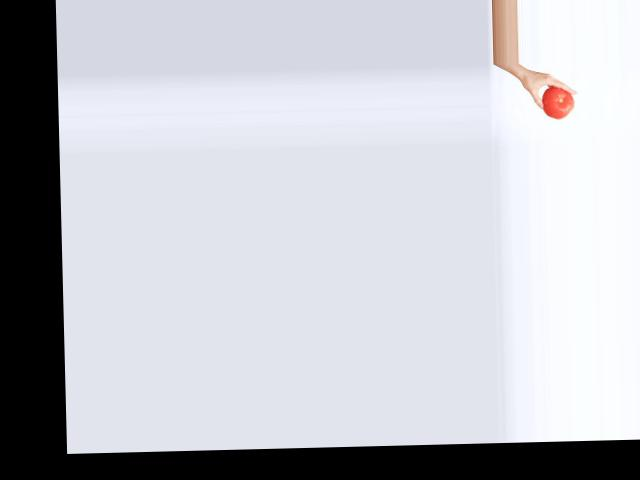tomato: (542, 86, 575, 119)
